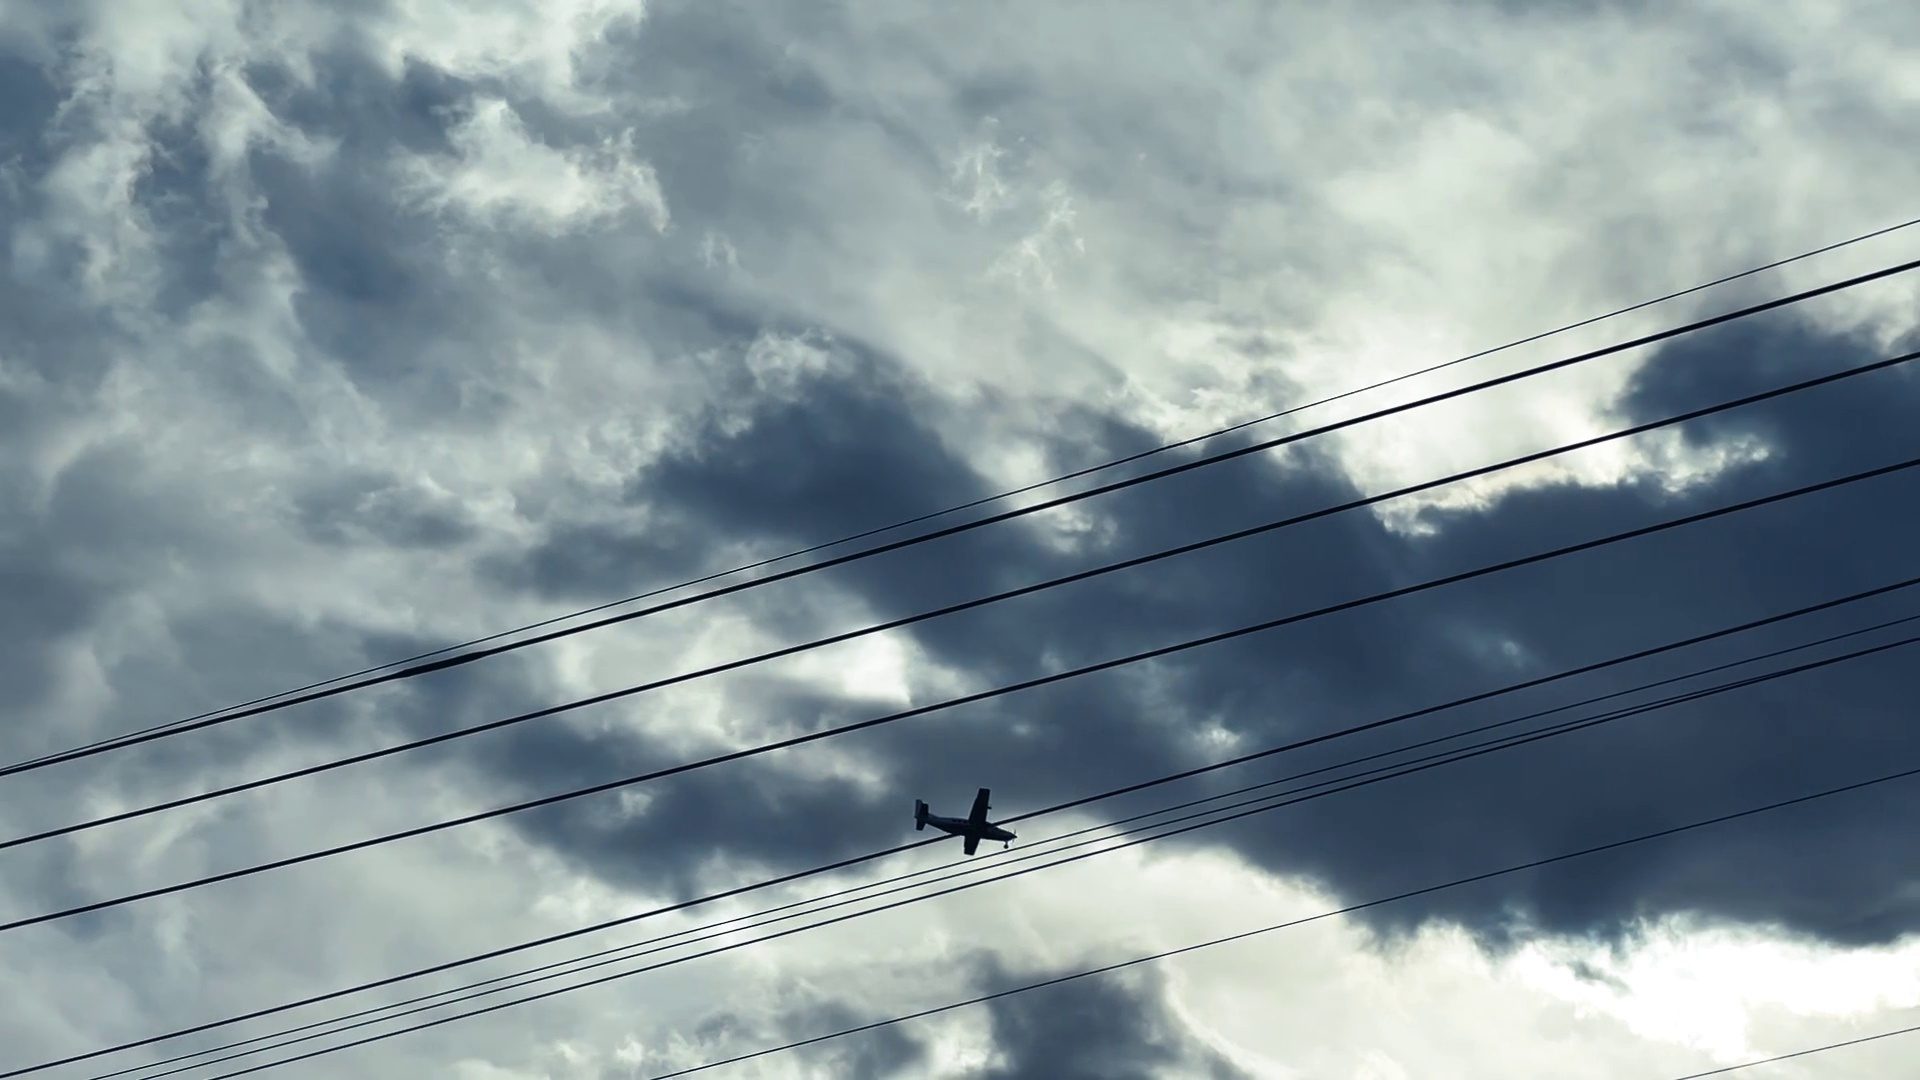plane: (913, 787, 1018, 856)
